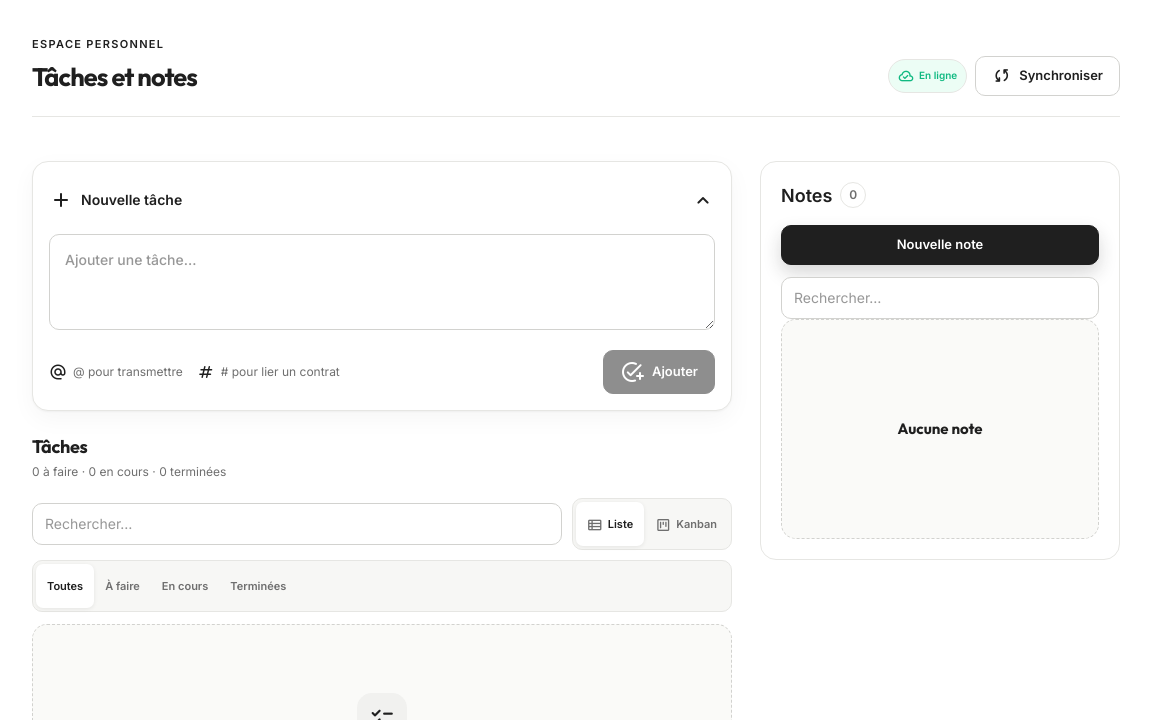
Scenario: TasksPage › suggests a contract by NIF after #
In the text box named "Description de la tâche": (382, 282) [49,234,715,330], type "Vérifier #123"
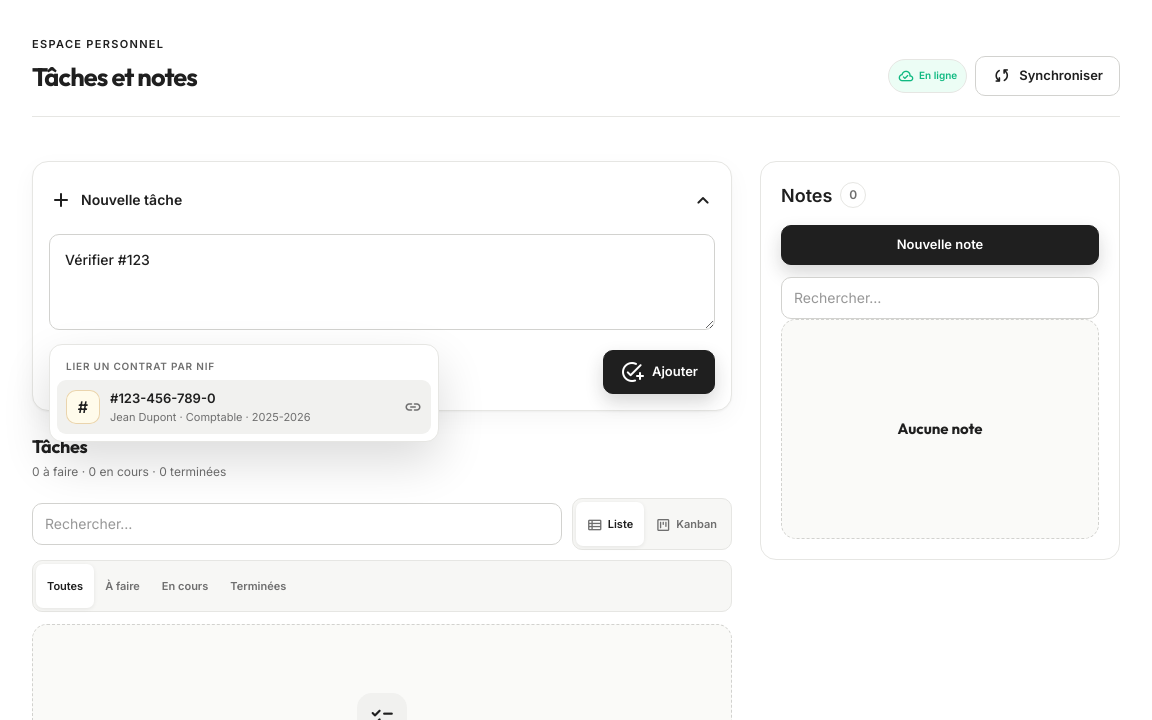
Result: the list named "Contrats par NIF" is shown at [49,344,439,442]
Click the text "#123-456-789-0": (163, 398) [110,390,216,406]
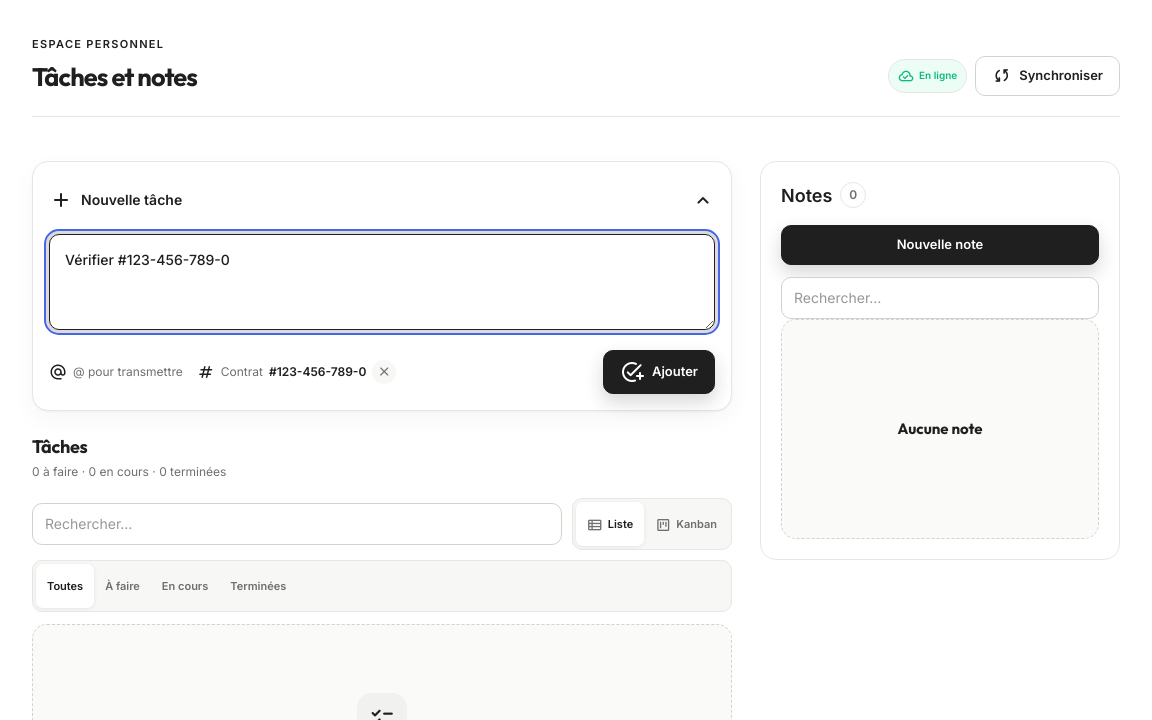
Result: the text "#123-456-789-0" is shown at [269,362,366,380]
Result: the text box named "Description de la tâche" holds "Vérifier #123-456-789-0 " at [49,234,715,330]
